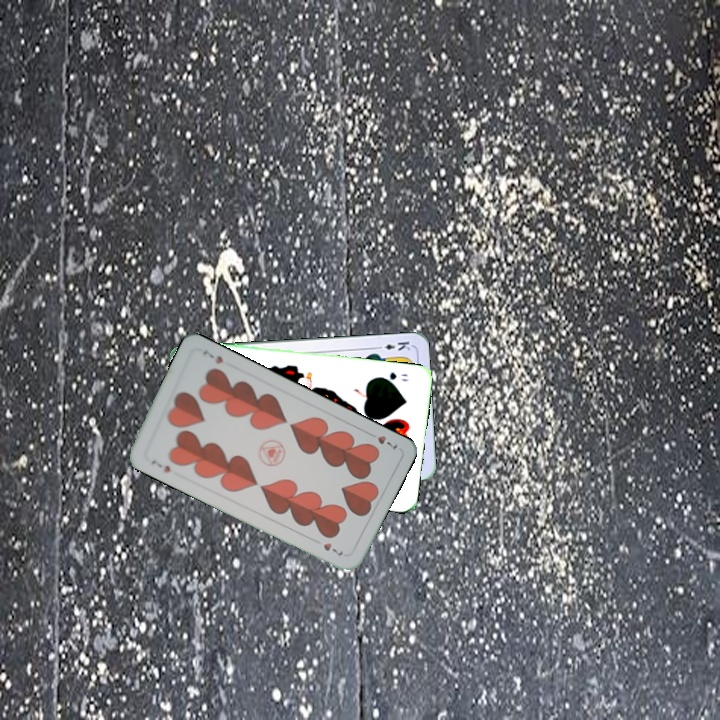EK: (372, 337, 413, 353)
GO: (375, 368, 410, 385)
H7: (364, 428, 401, 453), (147, 456, 173, 476)
